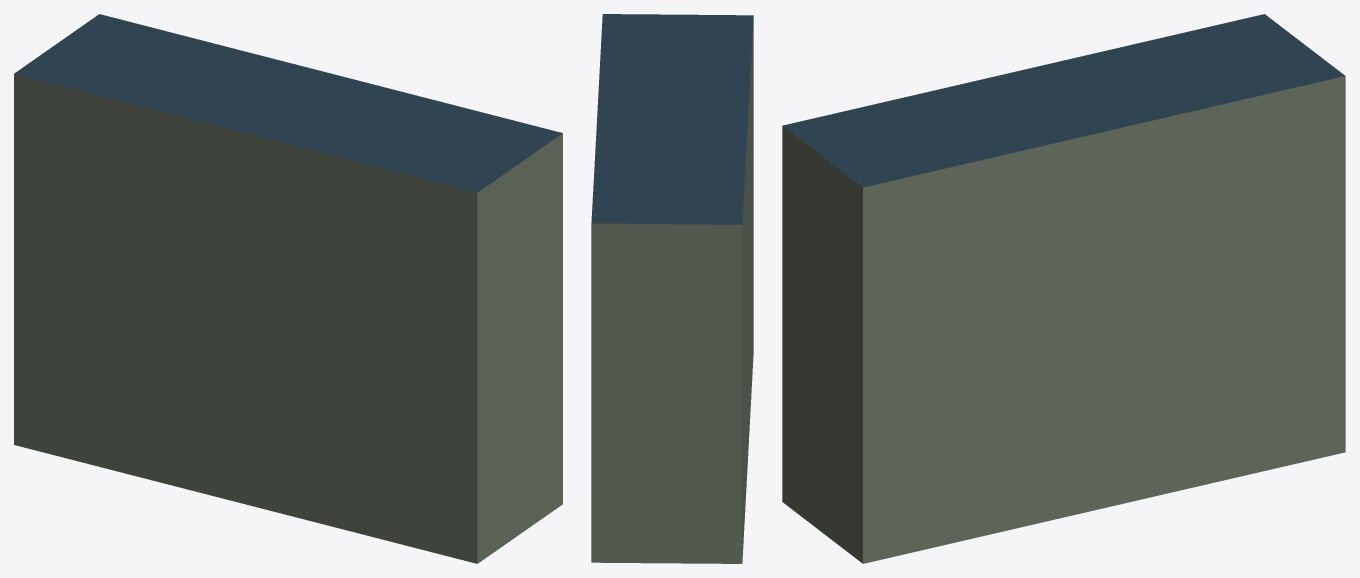
The model's file is nyc-1024650-0.glb.
3 renders of one model, left to right at view 1: azimuth 30°, elevation 25°; view 2: azimuth 150°, elevation 25°; view 3: azimuth 270°, elevation 25°, orthographic. The views are drawn at different scales.
Parts seen in each view (by area): view 1: nyc-1024650-0; view 2: nyc-1024650-0; view 3: nyc-1024650-0.
Boxes of the visible parts, bbox=[...] form: nyc-1024650-0: bbox=[14, 14, 562, 563]; nyc-1024650-0: bbox=[591, 14, 753, 563]; nyc-1024650-0: bbox=[782, 14, 1345, 563].
Bounding box in the file's own units: 19.55 × 19.76 × 26.8.
